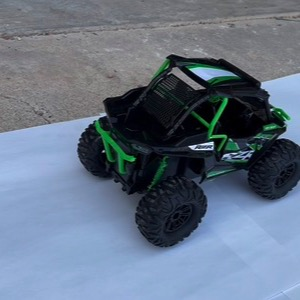polaris: (77, 53, 300, 249)
